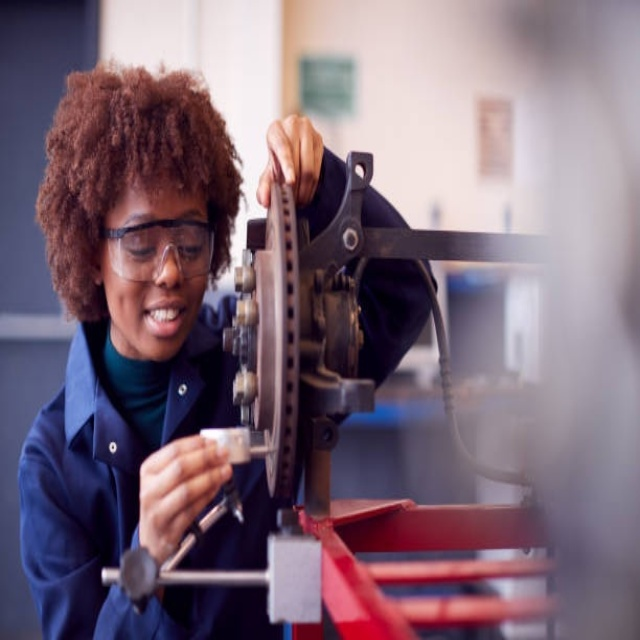Gafas: (100, 218, 216, 284)
Sin_guantes: (136, 433, 234, 568), (257, 113, 325, 213)
Sin_mascara: (135, 293, 190, 351)
